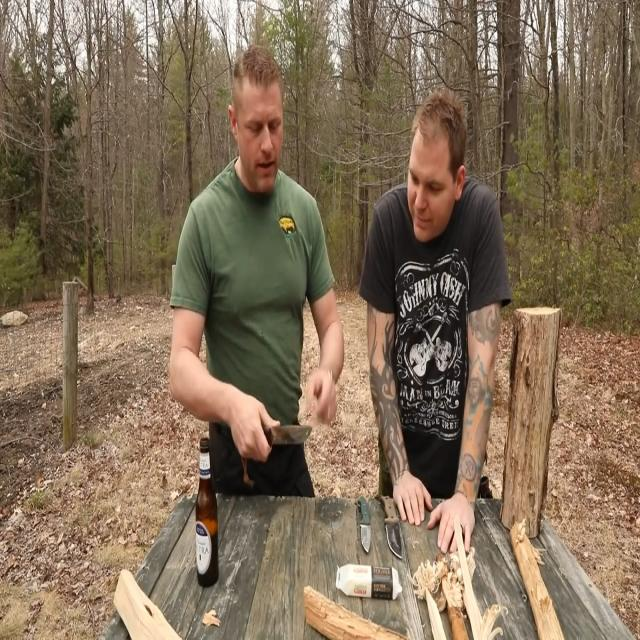knife: (267, 418, 317, 458), (380, 492, 404, 556), (354, 490, 374, 563)
